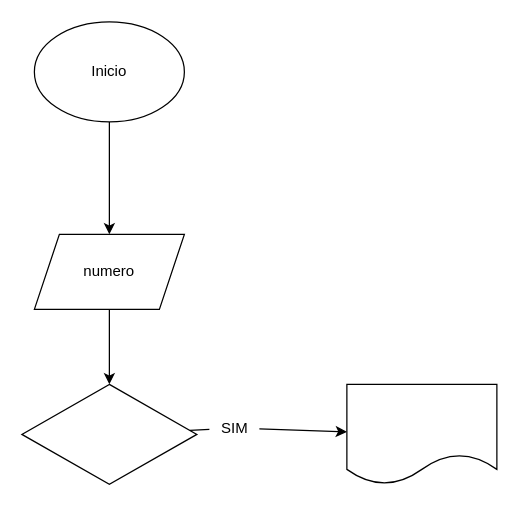
Image size: 519x506. Some labels were removed from this diagram. The shapes that lost their labels are listed below. From the top down, each one's centre as x and y in pixels, then its label:
the point at 109,433: numero % (12/2) ==0
the point at 421,433: "Divisível por 6"
